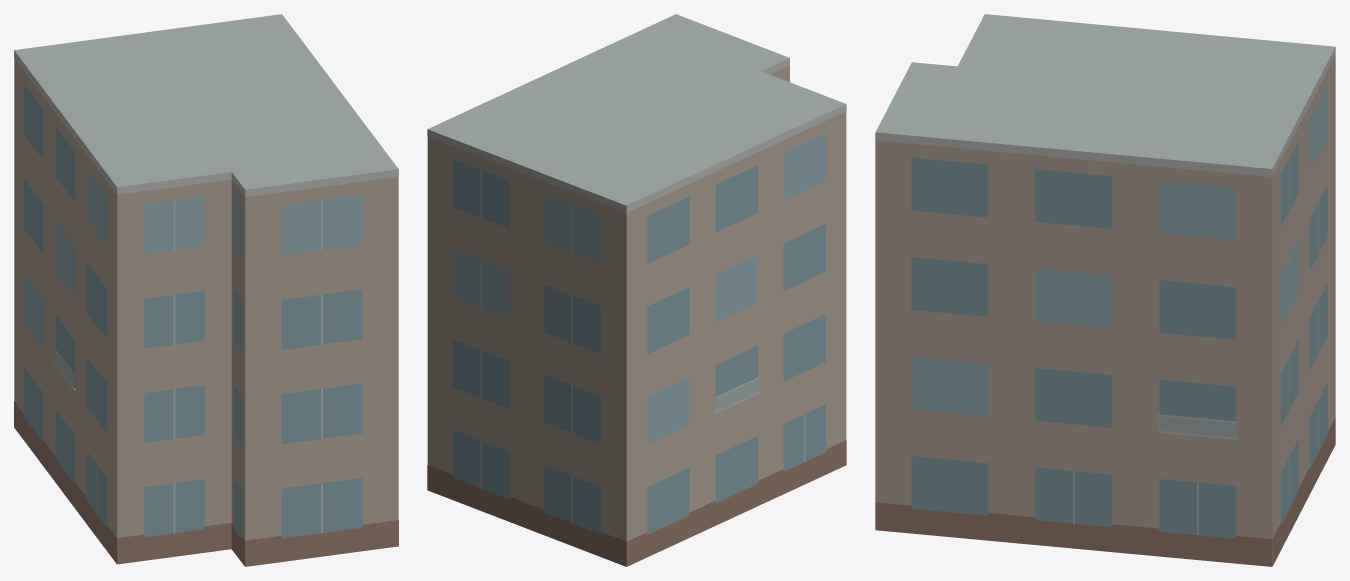
The model's file is residential-a69b1757-9167-437a-9476-113f5652b3af.glb.
3 views of the same model, side by side, from view 1: azimuth 30°, elevation 25°; view 2: azimuth 150°, elevation 25°; view 3: azimuth 270°, elevation 25° (orthographic). The views are drawn at different scales.
Visible parts, largest first — view 1: residential-a69b1757-9167-437a-9476-113f5652b3af.tmp; view 2: residential-a69b1757-9167-437a-9476-113f5652b3af.tmp; view 3: residential-a69b1757-9167-437a-9476-113f5652b3af.tmp.
Boxes of the visible parts, x1=… form: residential-a69b1757-9167-437a-9476-113f5652b3af.tmp: x1=14, y1=14, x2=398, y2=566; residential-a69b1757-9167-437a-9476-113f5652b3af.tmp: x1=427, y1=14, x2=846, y2=566; residential-a69b1757-9167-437a-9476-113f5652b3af.tmp: x1=875, y1=14, x2=1335, y2=566.
Size of the model in its own units: 10.21 by 12.2 by 12.8.
